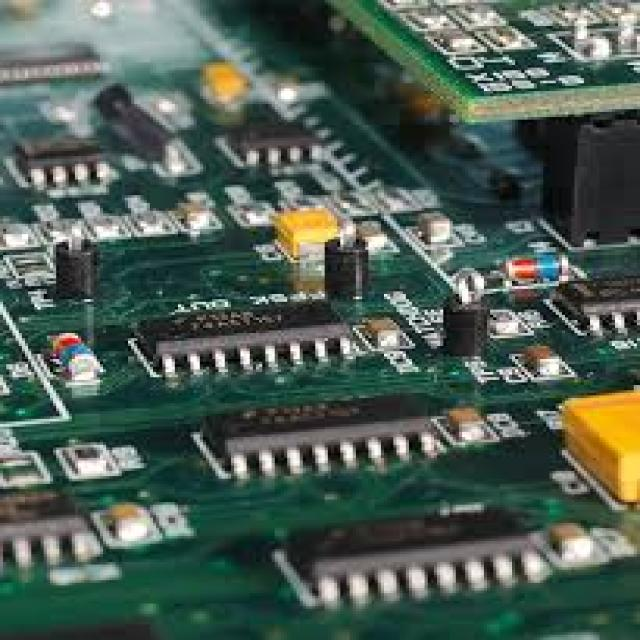pcb: (0, 0, 637, 637), (312, 0, 637, 125), (268, 502, 637, 611), (194, 391, 456, 482), (128, 294, 365, 382), (540, 112, 637, 247), (556, 380, 637, 505), (9, 132, 112, 198), (546, 270, 637, 340), (50, 234, 100, 297)
